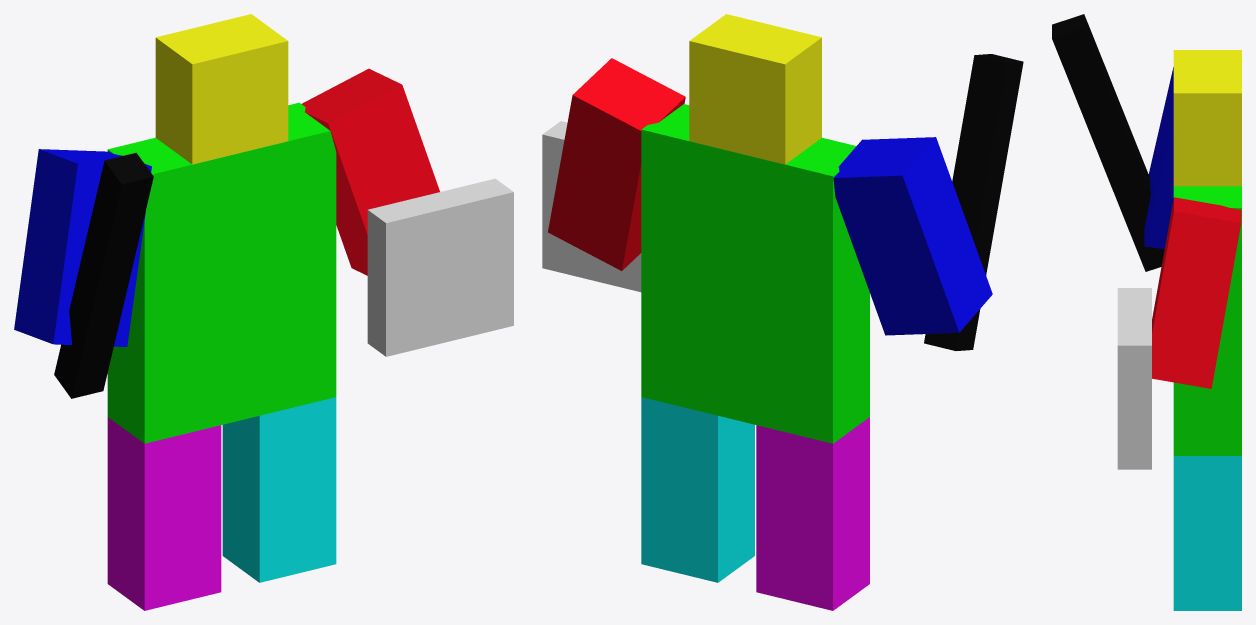
The model's file is ToyFighter.fbx.
3 renders of one model, left to right at view 1: azimuth 30°, elevation 25°; view 2: azimuth 150°, elevation 25°; view 3: azimuth 270°, elevation 25°, orthographic. The views are drawn at different scales.
Parts seen in each view (by area): view 1: Cube.001, Cube.007, Cube.003, Cube.002, Cube.006, Cube.004, Cube.005, Cube.008; view 2: Cube.001, Cube.005, Cube.003, Cube.002, Cube.006, Cube.004, Cube.008, Cube.007; view 3: Cube.004, Cube.002, Cube.006, Cube.008, Cube.001, Cube.007, Cube.005.
Part boxes in pixels (box(x1,y1,x2,y2)): Cube.001: box(107, 102, 336, 443); Cube.007: box(367, 178, 513, 356); Cube.003: box(107, 417, 221, 610); Cube.002: box(222, 397, 336, 582); Cube.006: box(155, 14, 288, 164); Cube.004: box(301, 68, 439, 275); Cube.005: box(14, 149, 151, 346); Cube.008: box(54, 152, 153, 398); Cube.001: box(641, 104, 869, 443); Cube.005: box(833, 137, 992, 335); Cube.003: box(756, 417, 869, 610); Cube.002: box(641, 397, 754, 582); Cube.006: box(689, 14, 821, 164); Cube.004: box(548, 58, 685, 270); Cube.008: box(924, 54, 1023, 350); Cube.007: box(542, 121, 641, 292); Cube.004: box(1152, 197, 1241, 388); Cube.002: box(1173, 456, 1241, 610); Cube.006: box(1173, 50, 1241, 186); Cube.008: box(1052, 14, 1164, 271); Cube.001: box(1173, 186, 1241, 455); Cube.007: box(1117, 288, 1151, 469); Cube.005: box(1144, 67, 1173, 249).
Bounding box in the file's own units: 141 × 160 × 55.5.
